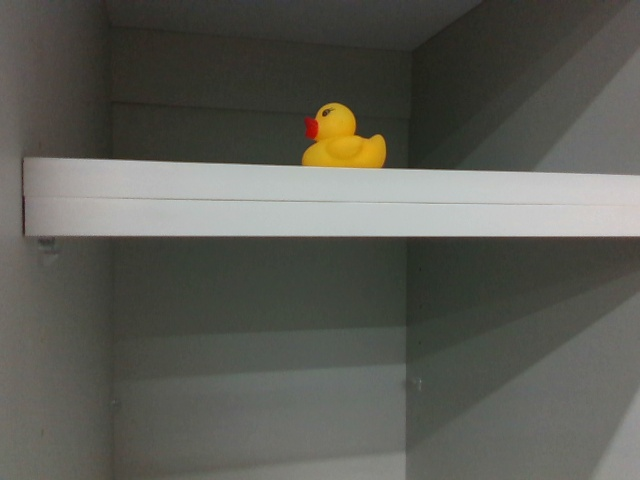duck: (292, 95, 391, 171)
